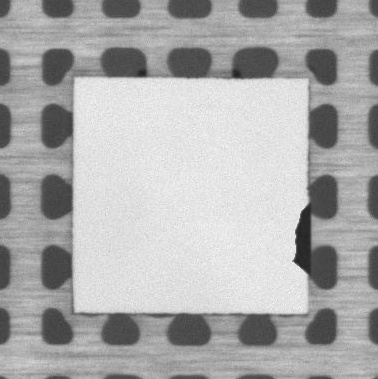DIE_BROKEN: (292, 201, 313, 272)
